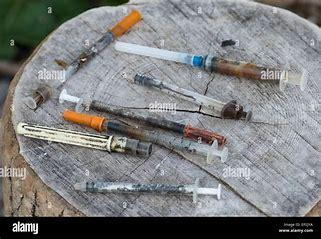Syringe: (113, 33, 321, 89), (59, 106, 260, 158), (70, 176, 228, 208)
